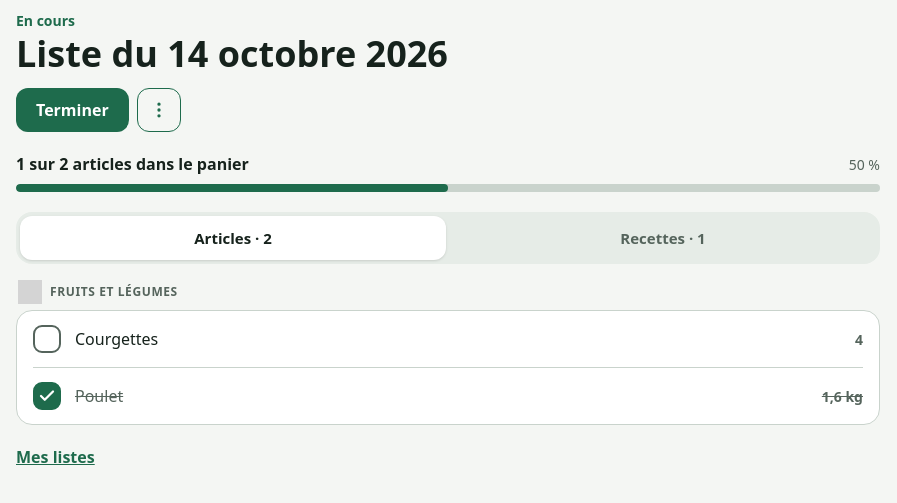
Test: ShoppingListView › recettes planifiées › ne descend pas sous une personne
The image size is (897, 503).
Press the mouse on the tab "Recettes · 1": (663, 238) [450,216,876,260]
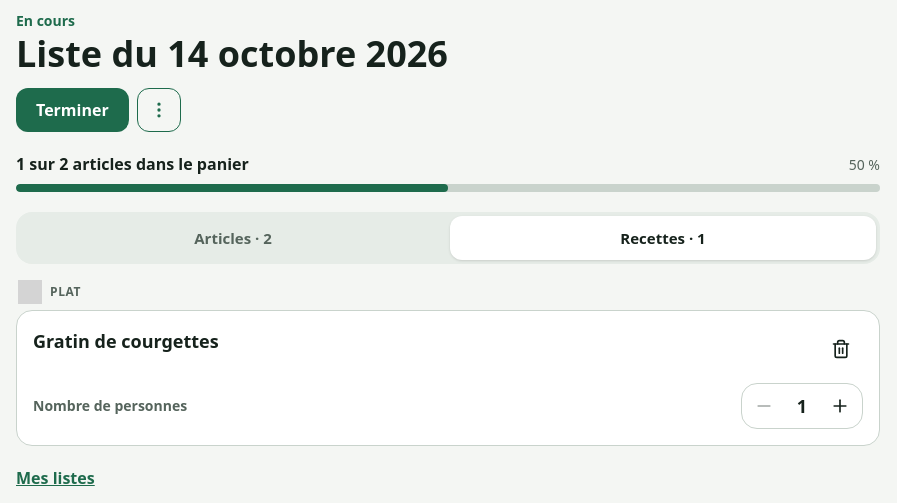
Expected: the button named "Une personne de moins pour Gratin de courgettes" is disabled, [742,384,786,428]
